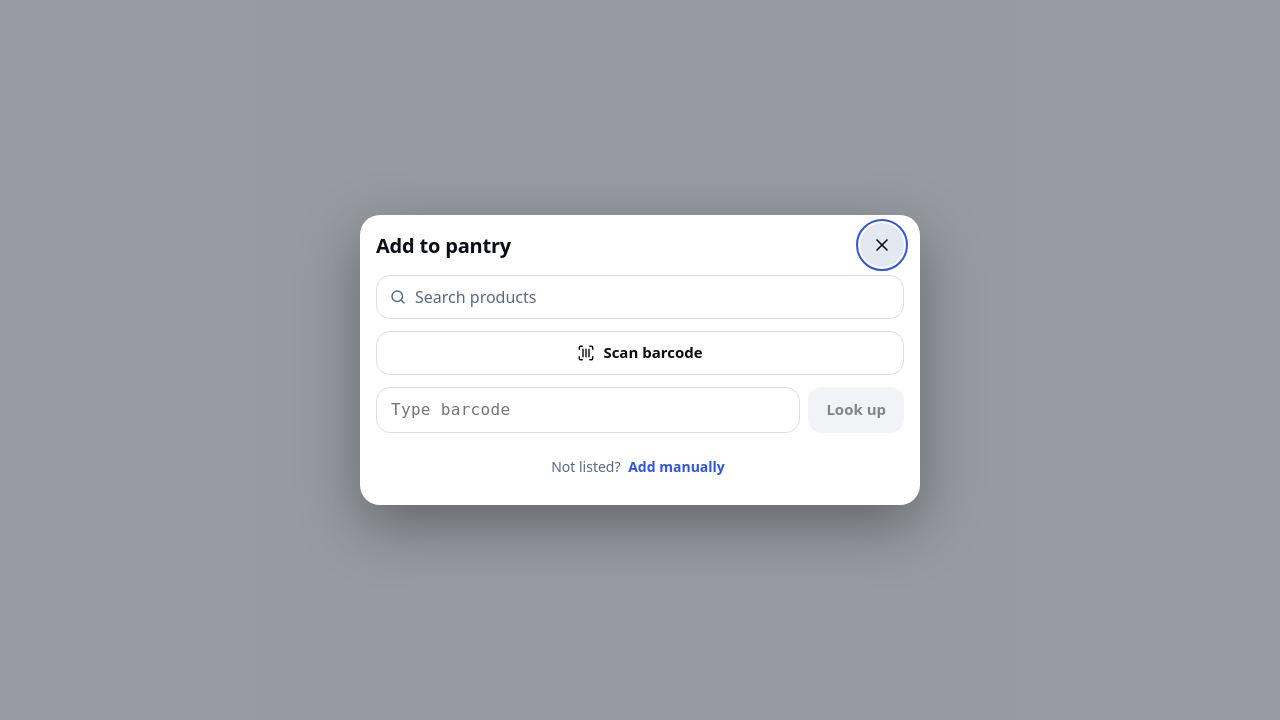
it: ＋ on a result adds it with a minimum of 1 and says so
The image size is (1280, 720).
In the search field named "Search PosoKanei": (653, 297) [415,276,891,318], type "feta"
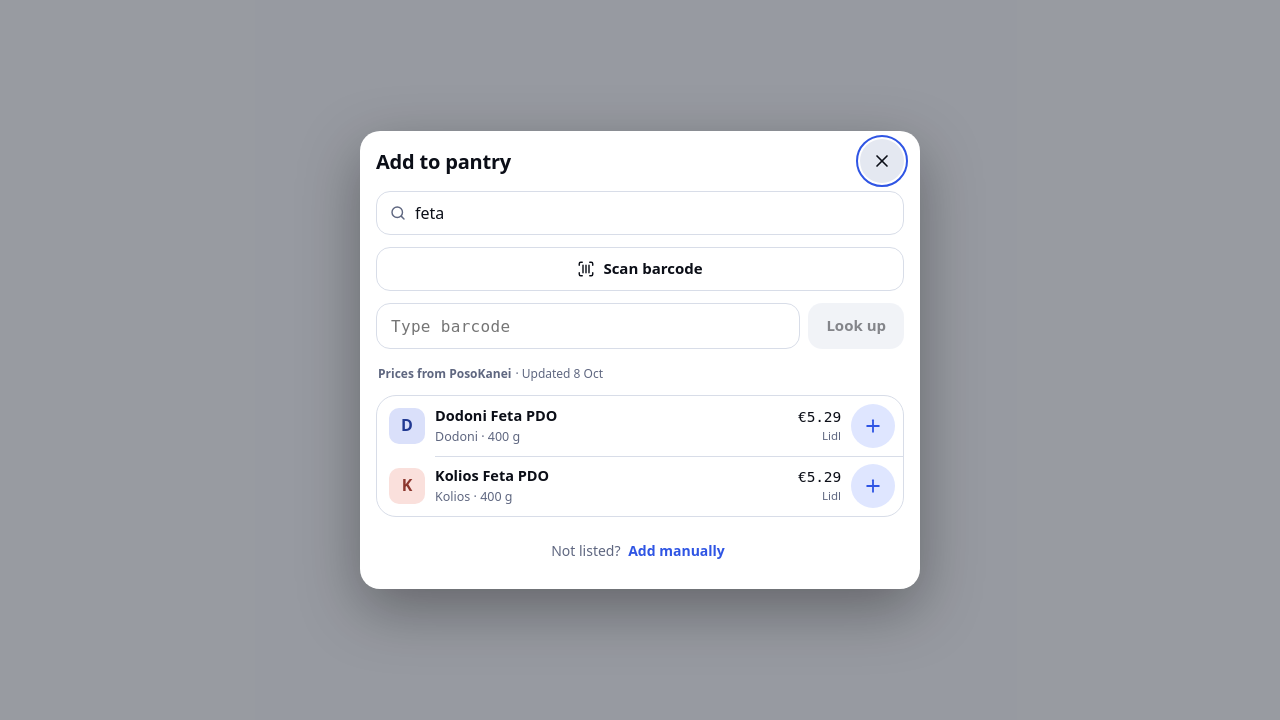
Click the button named "Add Dodoni Feta PDO": (873, 426) [851,404,895,448]
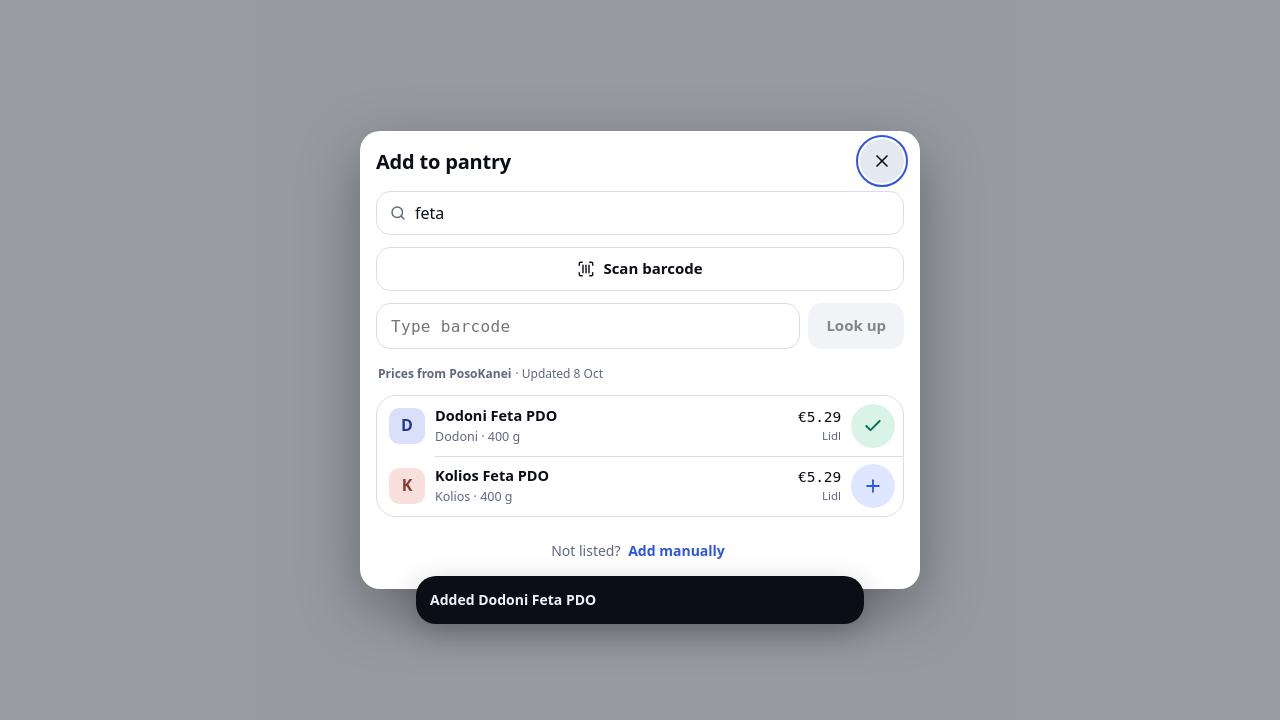
Result: the button named "Added Dodoni Feta PDO" is disabled at [851,404,895,448]
Result: the text "Added Dodoni Feta PDO" is shown at [430,590,596,609]
